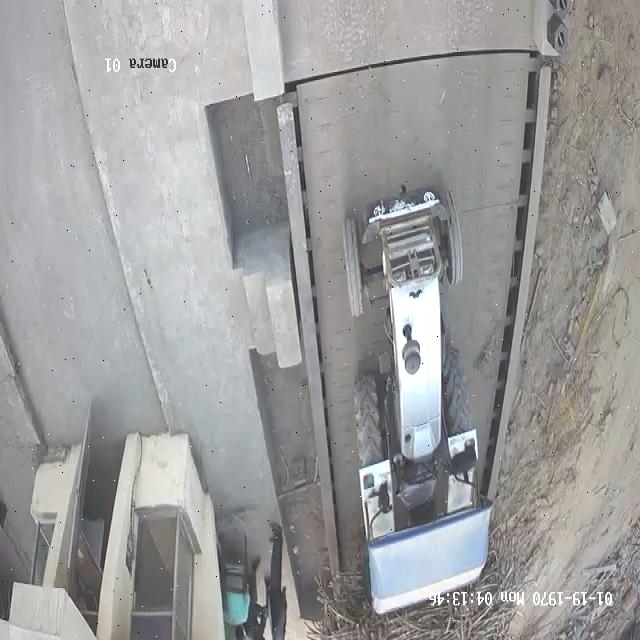Tratores - v5 YOLO V8L 2024-11-13: (338, 188, 498, 609)
